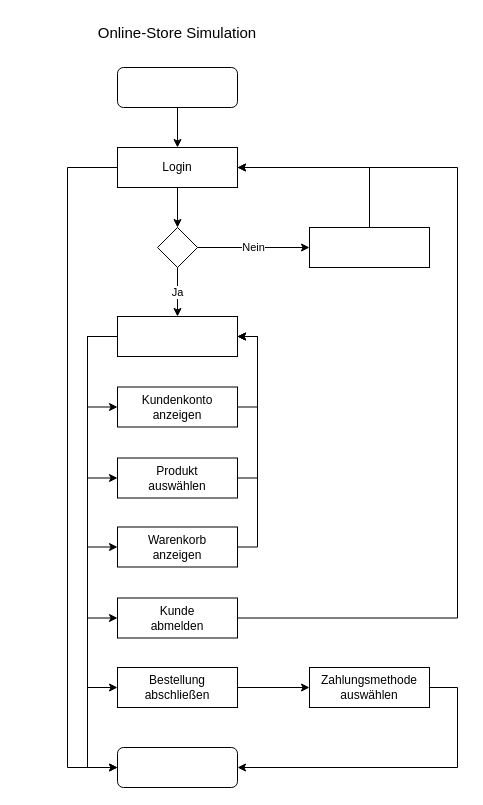
This 483x805 diagram has some shape labels left out. The centre of each missing label's shape, as x and y in pixels:
"Ende" belongs at point 177,767.
"Hauptmenü anzeigen" belongs at point 177,336.
"Registrierung" belongs at point 369,247.
"Start" belongs at point 177,87.
